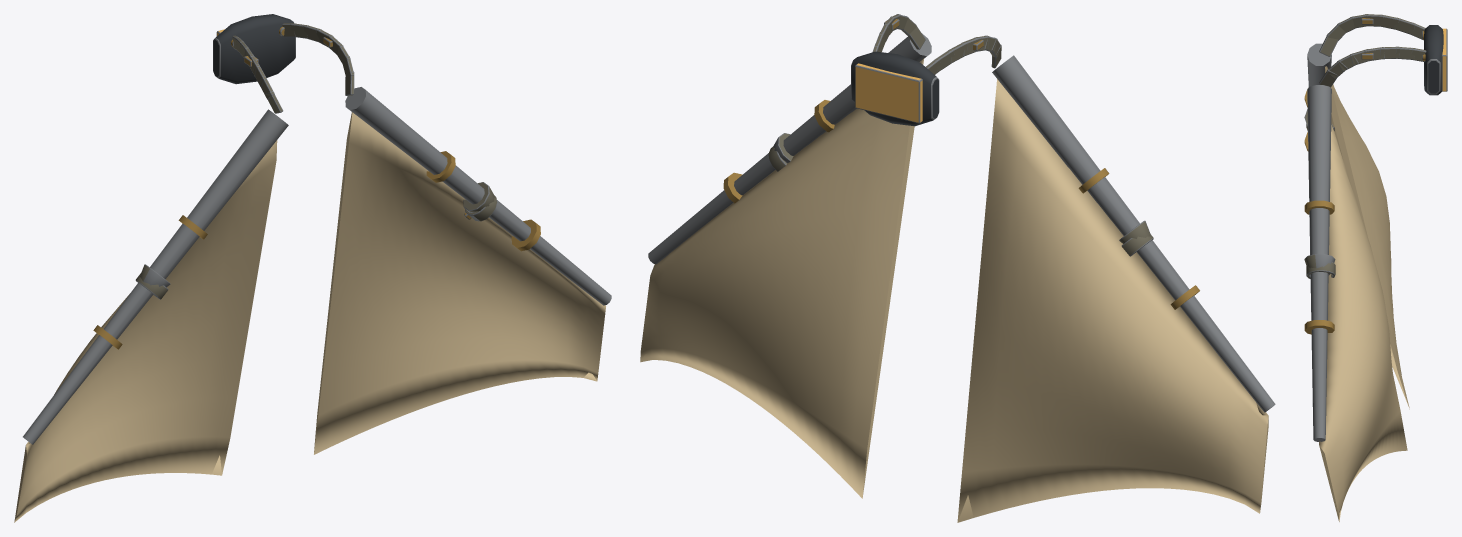
Rendered from wingsuit_worn.fbx.
3 views of the same model, side by side, from view 1: azimuth 30°, elevation 25°; view 2: azimuth 150°, elevation 25°; view 3: azimuth 270°, elevation 25° (orthographic). The views are drawn at different scales.
Visible parts, largest first — view 1: Mesh_WingsuitWorn_Membrane_L, Mesh_WingsuitWorn_Membrane_R, Mesh_WingsuitWorn_Batten_R, Mesh_WingsuitWorn_Batten_L, Mesh_WingsuitWorn_Yoke, Mesh_WingsuitWorn_Strap_L, Mesh_WingsuitWorn_Strap_R, Mesh_WingsuitWorn_Cuff_L; view 2: Mesh_WingsuitWorn_Membrane_R, Mesh_WingsuitWorn_Membrane_L, Mesh_WingsuitWorn_Batten_R, Mesh_WingsuitWorn_Yoke, Mesh_WingsuitWorn_Batten_L, Mesh_WingsuitWorn_Strap_R, Mesh_WingsuitWorn_Strap_L; view 3: Mesh_WingsuitWorn_Membrane_L, Mesh_WingsuitWorn_Batten_L, Mesh_WingsuitWorn_Membrane_R, Mesh_WingsuitWorn_Yoke, Mesh_WingsuitWorn_Strap_R, Mesh_WingsuitWorn_Strap_L, Mesh_WingsuitWorn_Batten_R, Mesh_WingsuitWorn_Cuff_L.
Part boxes in pixels (x1,y1,x2,y2): Mesh_WingsuitWorn_Membrane_L: (314,112,605,454); Mesh_WingsuitWorn_Membrane_R: (14,140,277,522); Mesh_WingsuitWorn_Batten_R: (23,109,288,444); Mesh_WingsuitWorn_Batten_L: (345,87,611,305); Mesh_WingsuitWorn_Yoke: (213,14,295,84); Mesh_WingsuitWorn_Strap_L: (281,23,354,96); Mesh_WingsuitWorn_Strap_R: (232,35,283,113); Mesh_WingsuitWorn_Cuff_L: (463,182,497,221); Mesh_WingsuitWorn_Membrane_R: (957,79,1268,522); Mesh_WingsuitWorn_Membrane_L: (640,59,923,498); Mesh_WingsuitWorn_Batten_R: (992,55,1275,412); Mesh_WingsuitWorn_Yoke: (851,51,939,126); Mesh_WingsuitWorn_Batten_L: (648,33,931,264); Mesh_WingsuitWorn_Strap_R: (926,35,1001,74); Mesh_WingsuitWorn_Strap_L: (872,14,925,52); Mesh_WingsuitWorn_Membrane_L: (1319,125,1407,521); Mesh_WingsuitWorn_Batten_L: (1304,85,1334,441); Mesh_WingsuitWorn_Membrane_R: (1325,66,1409,409); Mesh_WingsuitWorn_Yoke: (1422,25,1447,95); Mesh_WingsuitWorn_Strap_R: (1319,14,1425,56); Mesh_WingsuitWorn_Strap_L: (1319,46,1426,87); Mesh_WingsuitWorn_Batten_R: (1304,43,1331,151); Mesh_WingsuitWorn_Cuff_L: (1304,254,1335,278).
Size of the model in its own units: 260 by 186 by 60.35.
